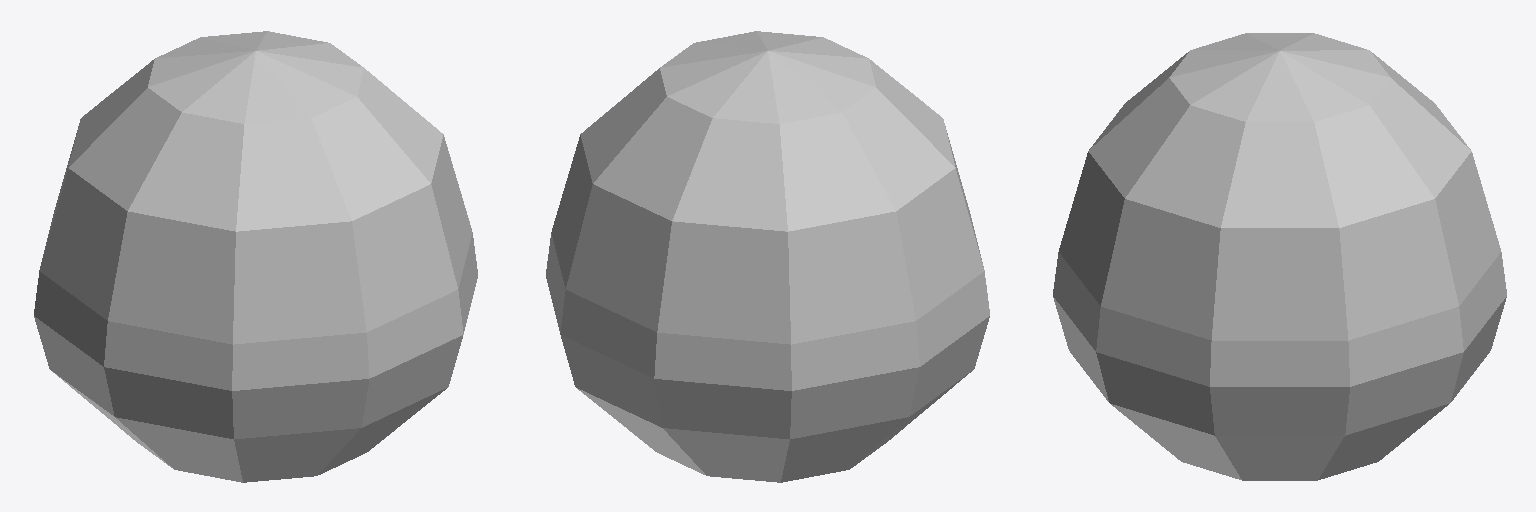
The model's file is Tartaruga-olhoE.obj.
The picture shows the model from 3 angles: view 1: azimuth 30°, elevation 25°; view 2: azimuth 150°, elevation 25°; view 3: azimuth 270°, elevation 25°; orthographic projection.
Visible parts, largest first — view 1: Tartaruga-olhoE_Sphere; view 2: Tartaruga-olhoE_Sphere; view 3: Tartaruga-olhoE_Sphere.
Part boxes in pixels (left/top/right/bottom): Tartaruga-olhoE_Sphere: left=34, top=31, right=477, bottom=482; Tartaruga-olhoE_Sphere: left=546, top=31, right=989, bottom=482; Tartaruga-olhoE_Sphere: left=1053, top=33, right=1506, bottom=480.
Bounding box in the file's own units: 0.1526 × 0.1599 × 0.1605.